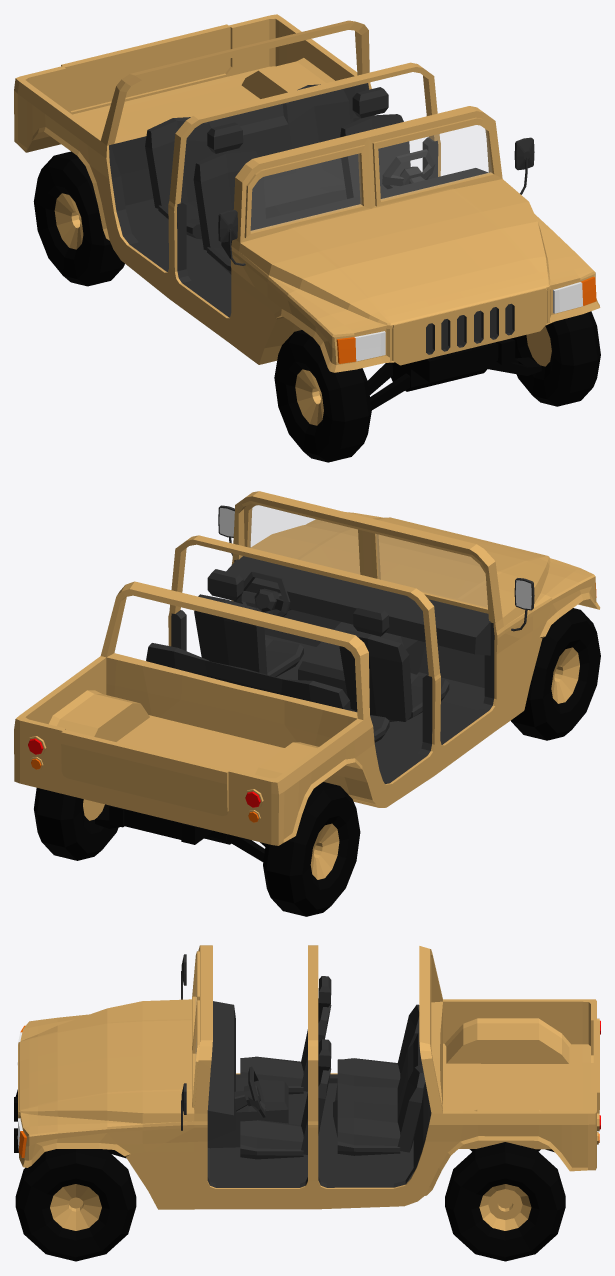
3 views of the same model, one above another, from view 1: azimuth 30°, elevation 25°; view 2: azimuth 150°, elevation 25°; view 3: azimuth 270°, elevation 25° (orthographic). The views are drawn at different scales.
Visible parts, largest first — view 1: Plane.008, Plane.011, Plane.009, Cylinder.010, Cylinder.009, Plane.010, Cylinder.008; view 2: Plane.008, Plane.011, Plane.009, Cylinder.009, Plane.010, Cylinder.010, Cylinder.011; view 3: Plane.008, Plane.011, Cylinder.011, Cylinder.008, Plane.010.
Boxes of the visible parts, left/top/right/bottom form: Plane.008: left=14, top=14, right=600, bottom=410; Plane.011: left=109, top=83, right=488, bottom=317; Plane.009: left=251, top=125, right=491, bottom=231; Cylinder.010: left=274, top=330, right=371, bottom=462; Cylinder.009: left=33, top=151, right=124, bottom=286; Plane.010: left=61, top=24, right=230, bottom=111; Cylinder.008: left=512, top=311, right=600, bottom=406; Plane.008: left=14, top=491, right=600, bottom=861; Plane.011: left=146, top=556, right=494, bottom=783; Plane.009: left=249, top=506, right=487, bottom=606; Cylinder.009: left=263, top=782, right=360, bottom=916; Plane.010: left=61, top=729, right=230, bottom=816; Cylinder.010: left=511, top=608, right=600, bottom=740; Cylinder.011: left=34, top=788, right=118, bottom=860; Plane.008: left=14, top=945, right=600, bottom=1209; Plane.011: left=207, top=976, right=431, bottom=1187; Cylinder.011: left=445, top=1142, right=565, bottom=1261; Cylinder.008: left=15, top=1149, right=136, bottom=1261; Plane.010: left=593, top=1020, right=599, bottom=1113.
Size of the model in its own units: 242 by 176 by 438.
